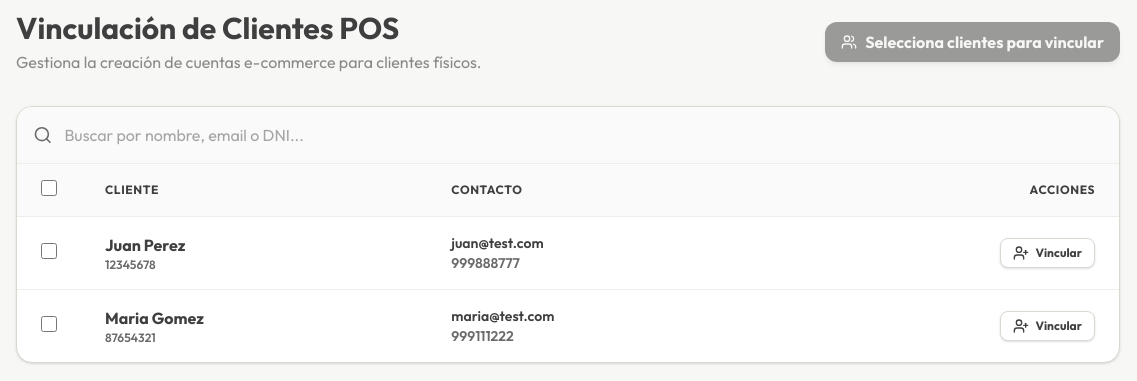
ClientLinkPage Component › filters clients list based on search term
The image size is (1137, 381).
Expected: the text "Juan Perez" is shown, [105,235,185,255]
Type "Maria" into the field with placeholder "Buscar por nombre, email o DNI..." at (584, 135), box [64,123,1103,147]
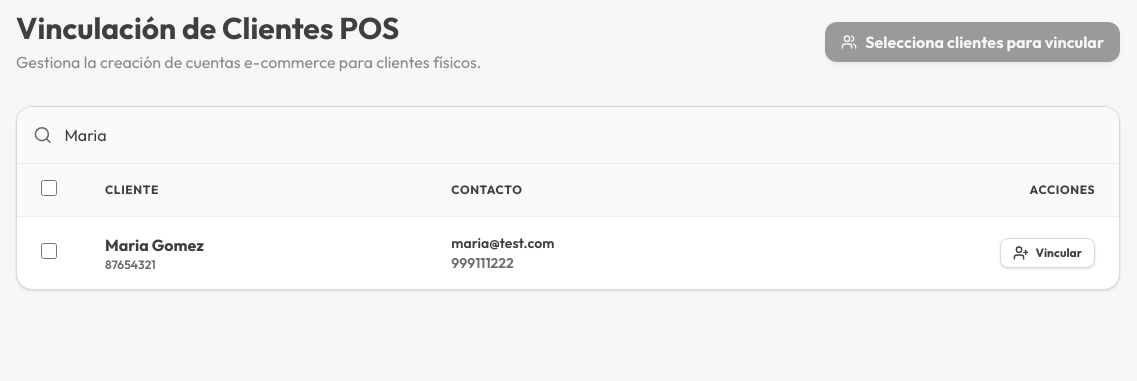
Expected: the text "Maria Gomez" is shown, [105,235,204,255]
Result: the text "Juan Perez" is gone
